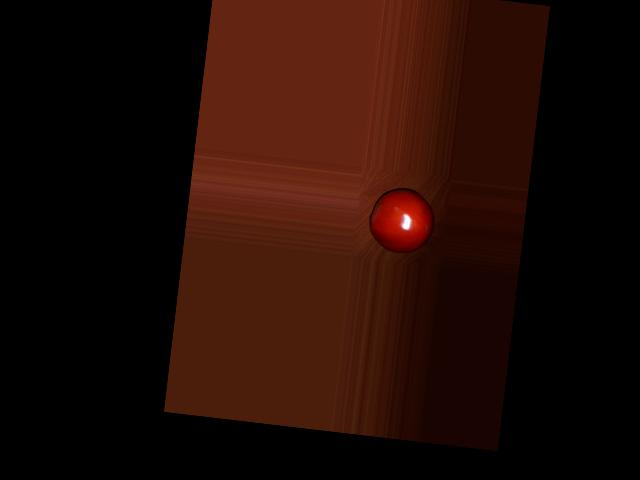tomato: (366, 185, 438, 257)
